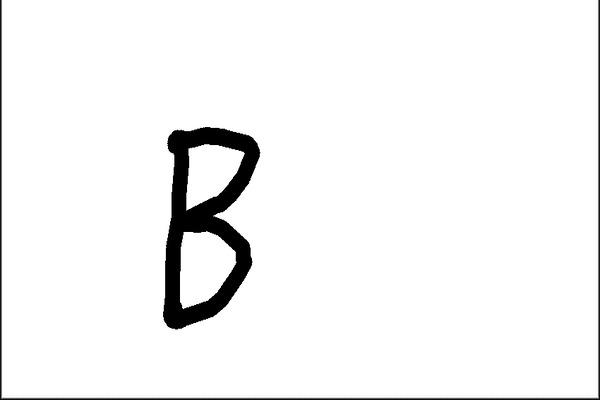B: (155, 118, 263, 332)
